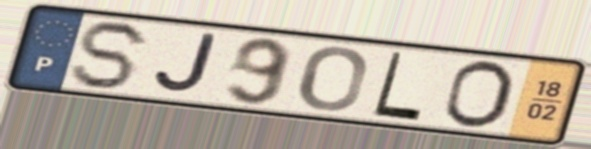9: (225, 35, 295, 107)
J: (150, 31, 220, 97)
L: (369, 49, 426, 124)
O: (438, 57, 517, 131), (296, 44, 370, 113)
S: (67, 19, 157, 93)
